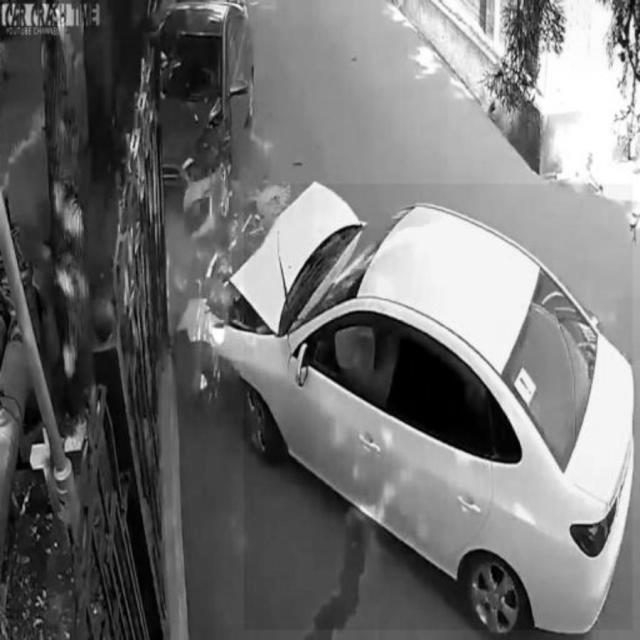vehicle: (244, 184, 632, 630), (160, 5, 258, 195)
